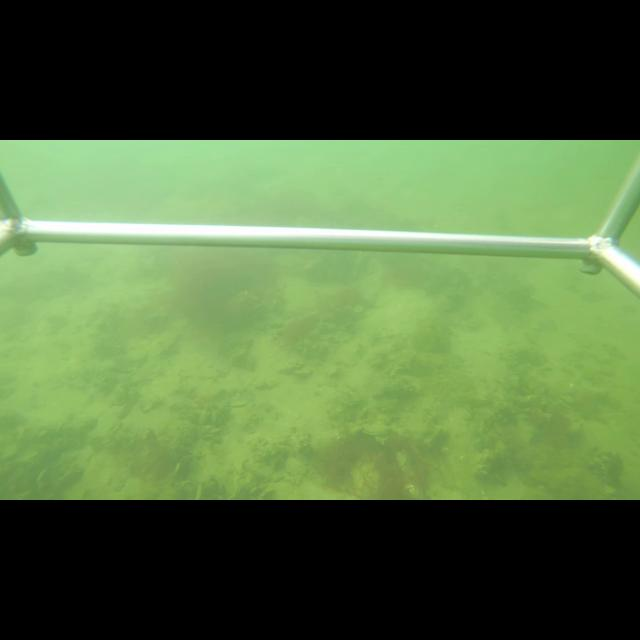Oyster-Closed: (357, 422, 390, 436)
